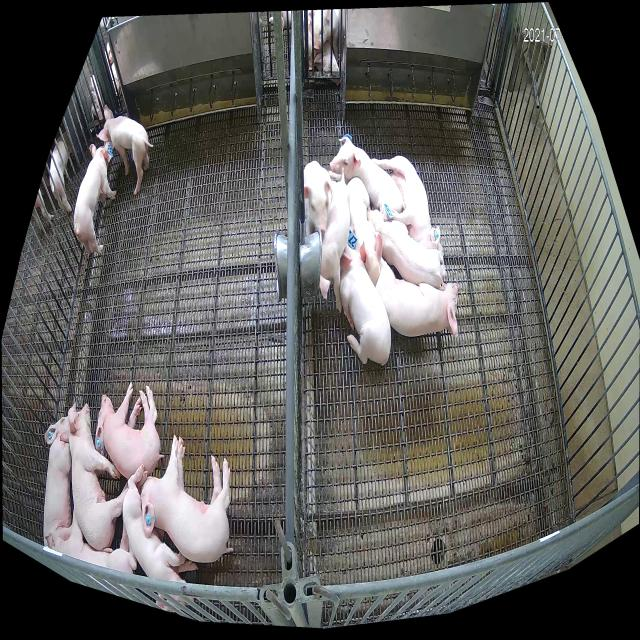pig: (140, 434, 233, 562), (122, 464, 198, 611), (60, 403, 129, 552), (371, 156, 443, 252), (95, 381, 164, 479), (376, 257, 459, 338), (367, 207, 446, 289), (45, 505, 137, 575), (340, 243, 391, 366), (328, 136, 405, 214), (96, 105, 154, 195), (74, 142, 117, 255), (319, 167, 350, 314), (347, 178, 383, 287), (43, 417, 72, 542), (304, 161, 332, 233)
